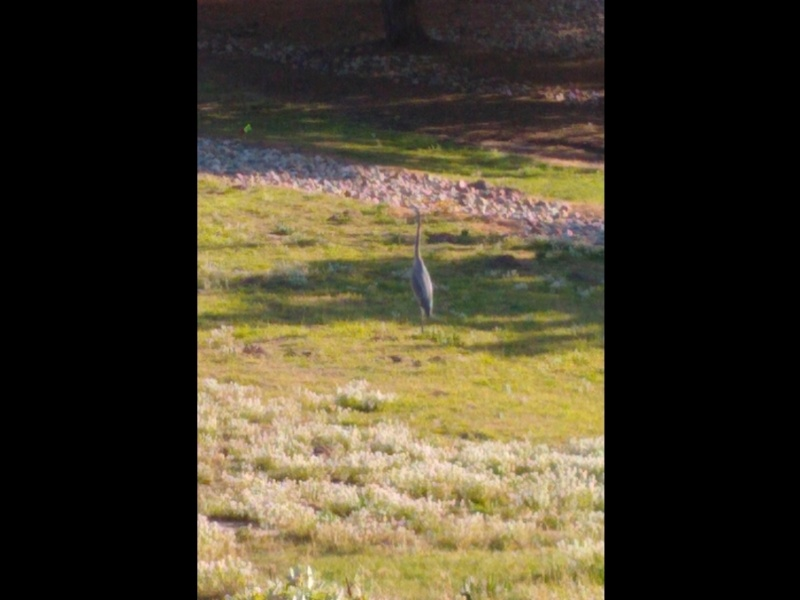heron: (396, 199, 443, 339)
